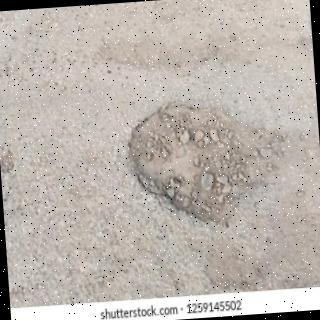pothole: (127, 102, 283, 224)
